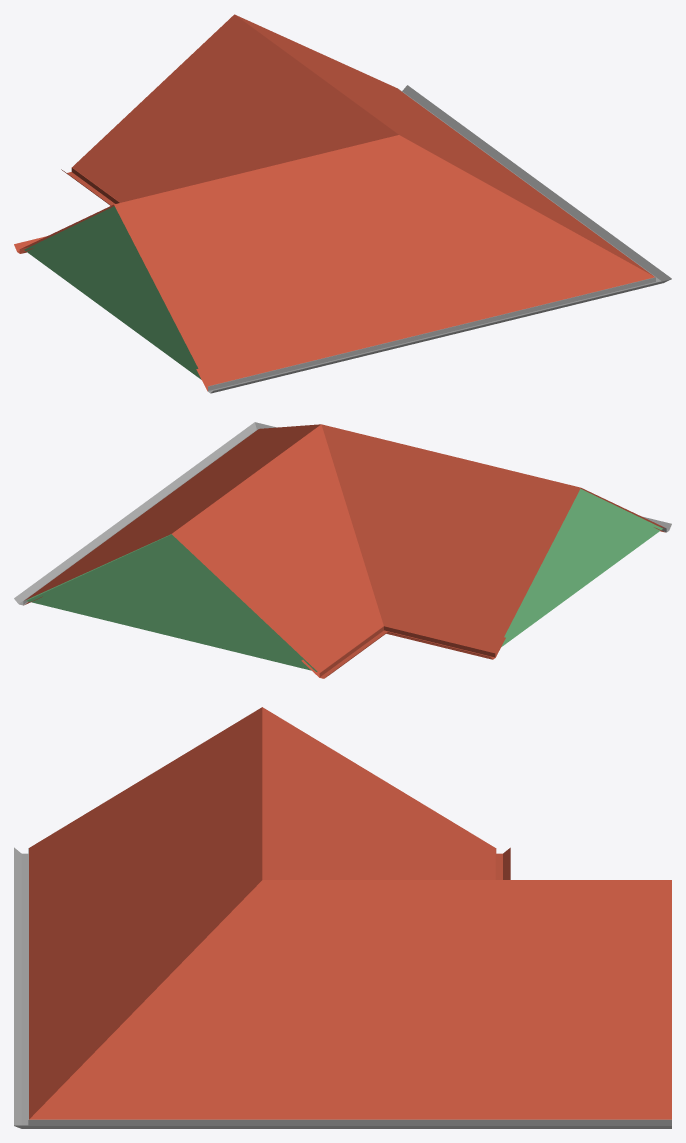
The model's file is MESH_ENV(Telhado_9x9_Formato_L).fbx.
3 renders of one model, top to bottom at view 1: azimuth 30°, elevation 25°; view 2: azimuth 150°, elevation 25°; view 3: azimuth 270°, elevation 25°, orthographic. The views are drawn at different scales.
Parts seen in each view (by area): view 1: MESH_ENV(Telhado_9x9_Formato_L); view 2: MESH_ENV(Telhado_9x9_Formato_L); view 3: MESH_ENV(Telhado_9x9_Formato_L).
Part boxes in pixels (bbox=[...]): MESH_ENV(Telhado_9x9_Formato_L): bbox=[14, 14, 671, 393]; MESH_ENV(Telhado_9x9_Formato_L): bbox=[14, 422, 671, 678]; MESH_ENV(Telhado_9x9_Formato_L): bbox=[14, 707, 671, 1128].
Bounding box in the file's own units: 964 × 238 × 964.
